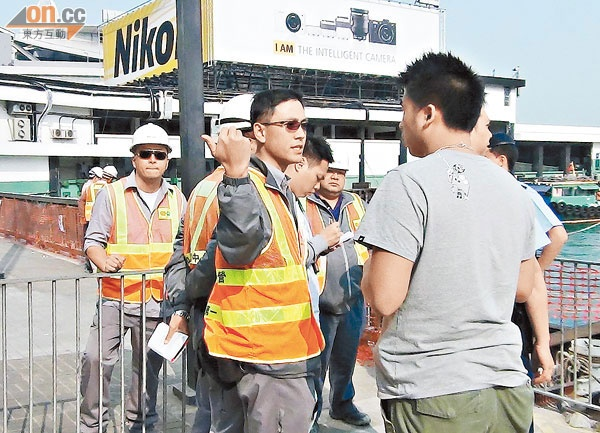none: (391, 54, 487, 157), (250, 86, 307, 162), (287, 137, 332, 199)
white: (128, 121, 173, 183), (319, 147, 350, 196), (87, 165, 103, 185), (102, 164, 117, 183)
